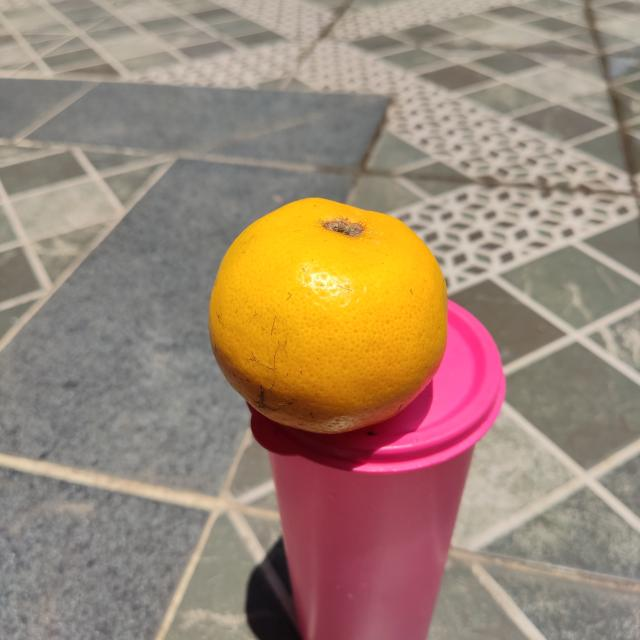orange: (203, 191, 448, 435)
